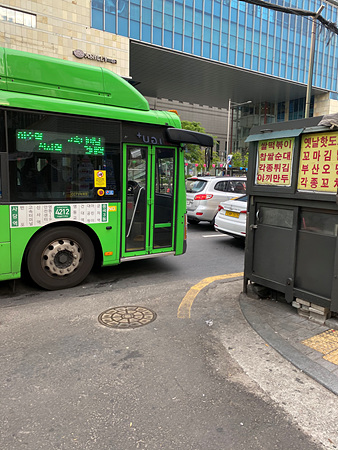entrance: (119, 137, 178, 255)
